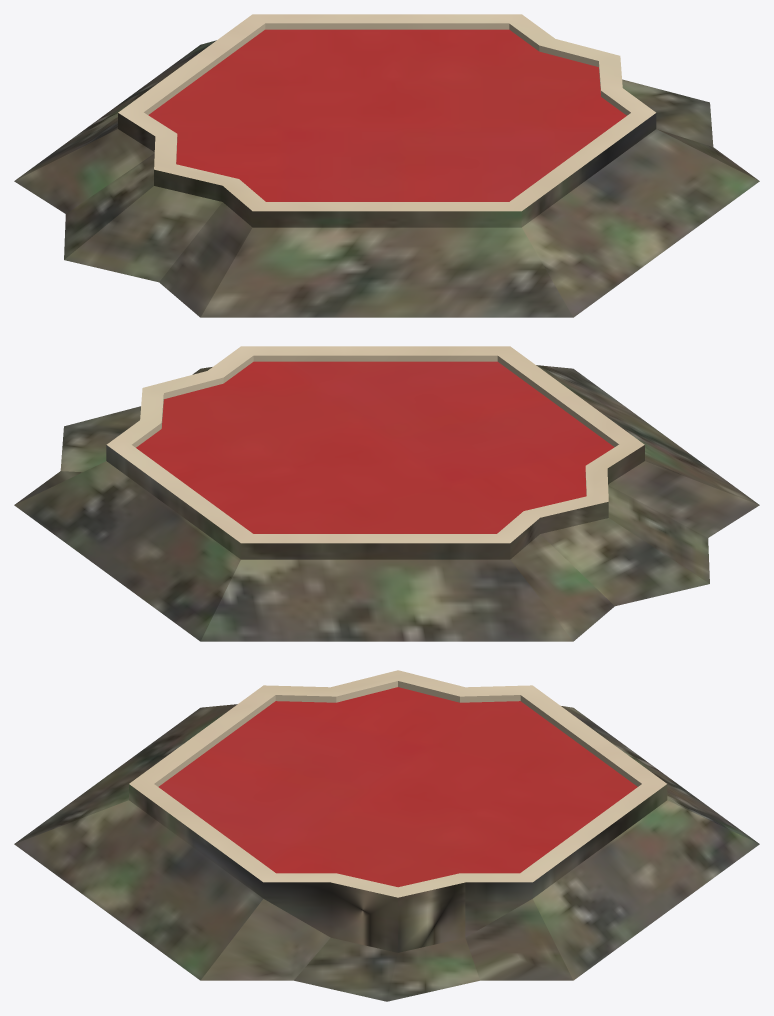
The model's file is MachineHealPad.obj.
3 renders of one model, top to bottom at view 1: azimuth 30°, elevation 25°; view 2: azimuth 150°, elevation 25°; view 3: azimuth 270°, elevation 25°, orthographic.
Parts seen in each view (by area): view 1: Pad_Cylinder; view 2: Pad_Cylinder; view 3: Pad_Cylinder.
Part boxes in pixels (bbox=[...]): Pad_Cylinder: bbox=[14, 14, 759, 317]; Pad_Cylinder: bbox=[14, 346, 759, 641]; Pad_Cylinder: bbox=[14, 670, 759, 1001].
Bounding box in the file's own units: 4.97 × 0.4634 × 4.97.
